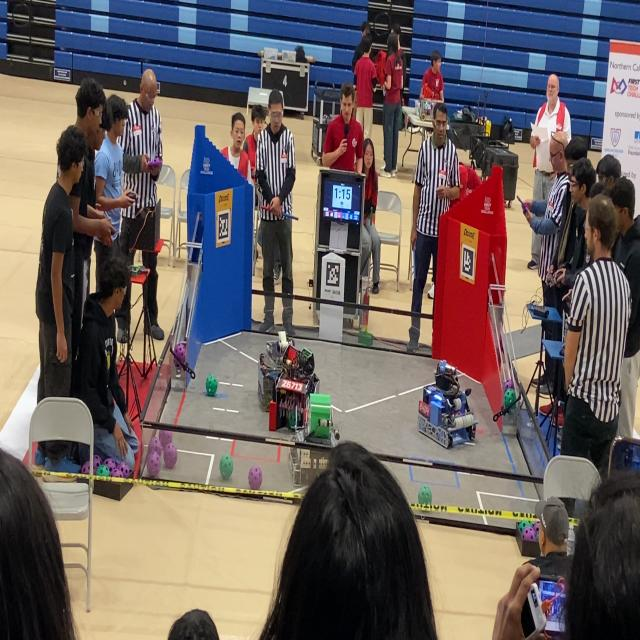artifact_green: (220, 455, 233, 480), (418, 485, 432, 505), (504, 389, 517, 410), (206, 374, 218, 396), (288, 411, 301, 429), (96, 465, 110, 477), (504, 379, 515, 390), (517, 521, 527, 533), (533, 521, 541, 532), (522, 520, 529, 530), (522, 520, 529, 528), (534, 530, 539, 541), (527, 521, 534, 528), (526, 521, 532, 528), (516, 521, 520, 530)
artifact_purple: (147, 451, 160, 477), (164, 443, 177, 469), (249, 467, 262, 490), (148, 437, 163, 455), (174, 343, 185, 367), (159, 431, 172, 448), (522, 526, 535, 542), (118, 462, 131, 478), (104, 458, 117, 473), (93, 455, 102, 473), (81, 461, 90, 474), (505, 379, 515, 390), (111, 468, 123, 477), (530, 530, 538, 541), (533, 521, 540, 533), (536, 530, 539, 541)
